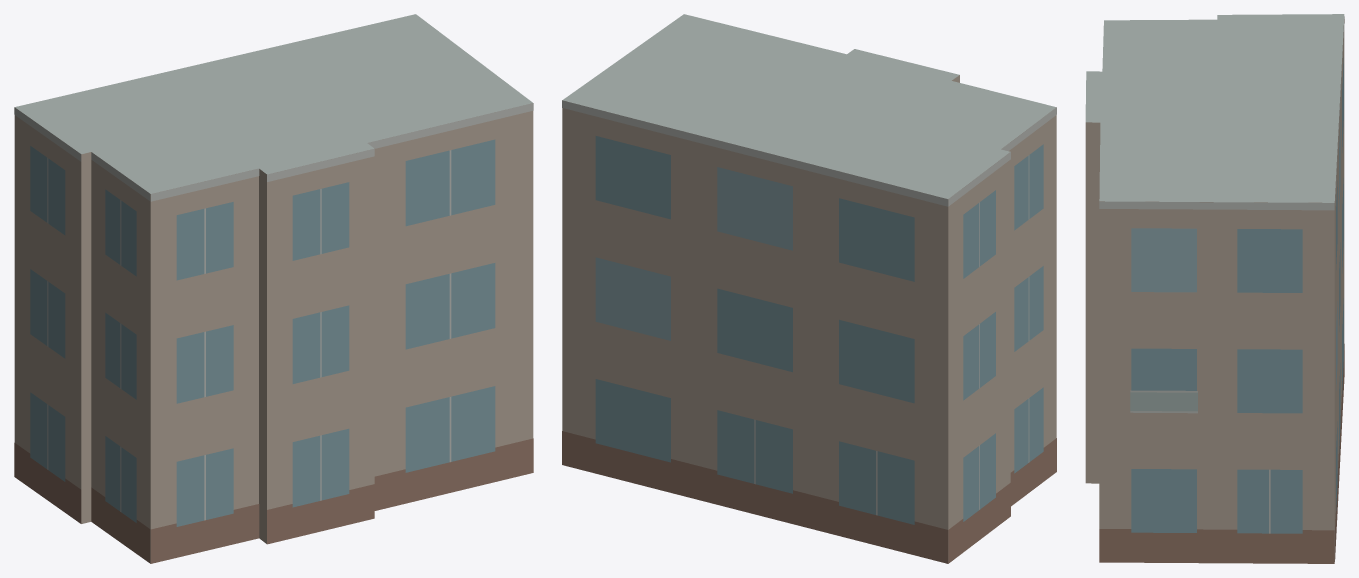
Rendered from survey-upis-32820031.glb.
3 renders of one model, left to right at view 1: azimuth 30°, elevation 25°; view 2: azimuth 150°, elevation 25°; view 3: azimuth 270°, elevation 25°, orthographic. The views are drawn at different scales.
Parts seen in each view (by area): view 1: survey-upis-32820031.tmp; view 2: survey-upis-32820031.tmp; view 3: survey-upis-32820031.tmp.
Part boxes in pixels (box(x1,y1,x2,y2)): survey-upis-32820031.tmp: box(14, 14, 533, 563); survey-upis-32820031.tmp: box(562, 14, 1056, 563); survey-upis-32820031.tmp: box(1085, 14, 1344, 563).
Size of the model in its own units: 13.19 by 11.75 by 7.65.
